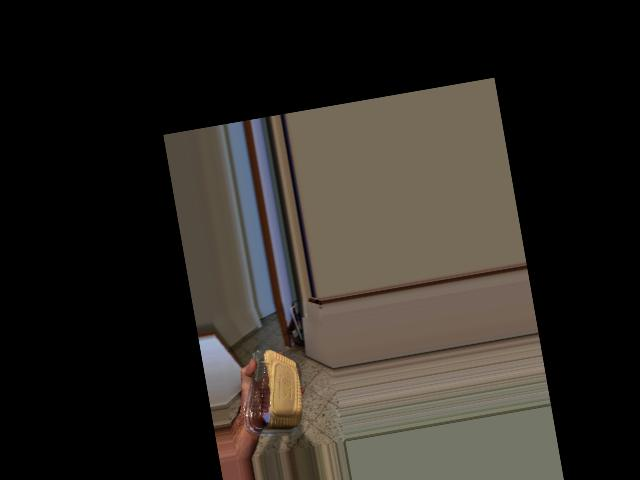cheese: (252, 363, 301, 444)
